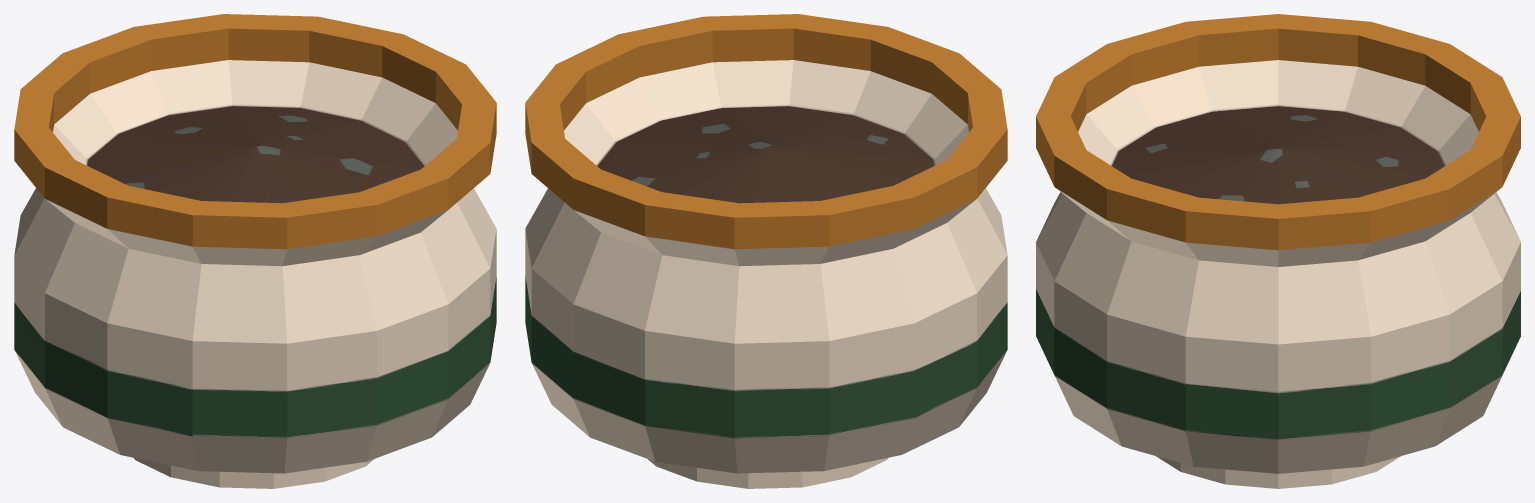
Rendered from PotTwo.fbx.
The picture shows the model from 3 angles, left to right: view 1: azimuth 30°, elevation 25°; view 2: azimuth 150°, elevation 25°; view 3: azimuth 270°, elevation 25°; orthographic projection.
Visible parts, largest first — view 1: Plane; view 2: Plane; view 3: Plane.
Part boxes in pixels (x1,y1,x2,y2): Plane: (14, 14, 496, 488); Plane: (525, 14, 1007, 488); Plane: (1036, 14, 1520, 488).
Size of the model in its own units: 0.7 by 0.5 by 0.7.
